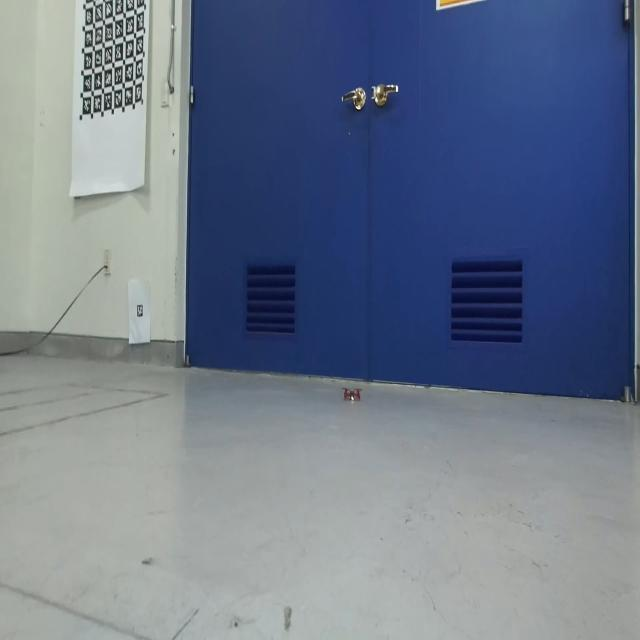crazyflie: (341, 384, 364, 404)
